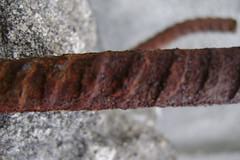Exposed reinforcement: (1, 46, 240, 115), (134, 17, 238, 50)
